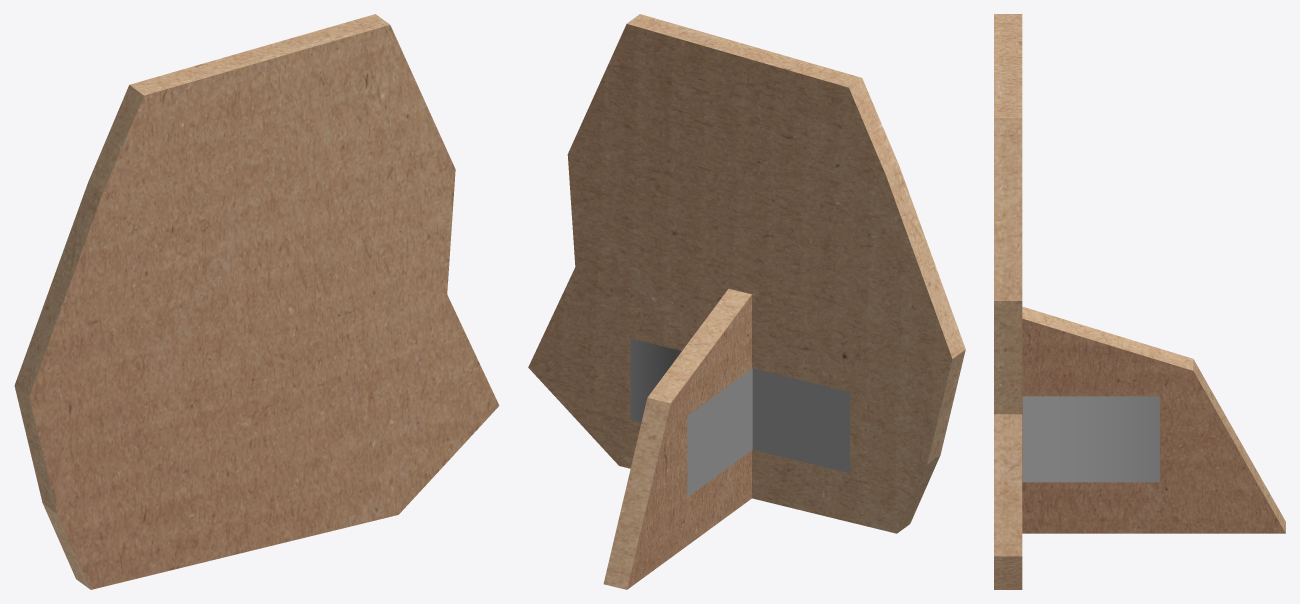
The model's file is Orc.fbx.
3 views of the same model, side by side, from view 1: azimuth 30°, elevation 25°; view 2: azimuth 150°, elevation 25°; view 3: azimuth 270°, elevation 25° (orthographic). The views are drawn at different scales.
Parts seen in each view (by area): view 1: Orc; view 2: Orc; view 3: Orc.
Boxes of the visible parts, x1,y1,x2,y2 form: Orc: (14,14,499,589); Orc: (528,14,965,589); Orc: (994,14,1285,589).
Bounding box in the file's own units: 1664 × 1664 × 940.
